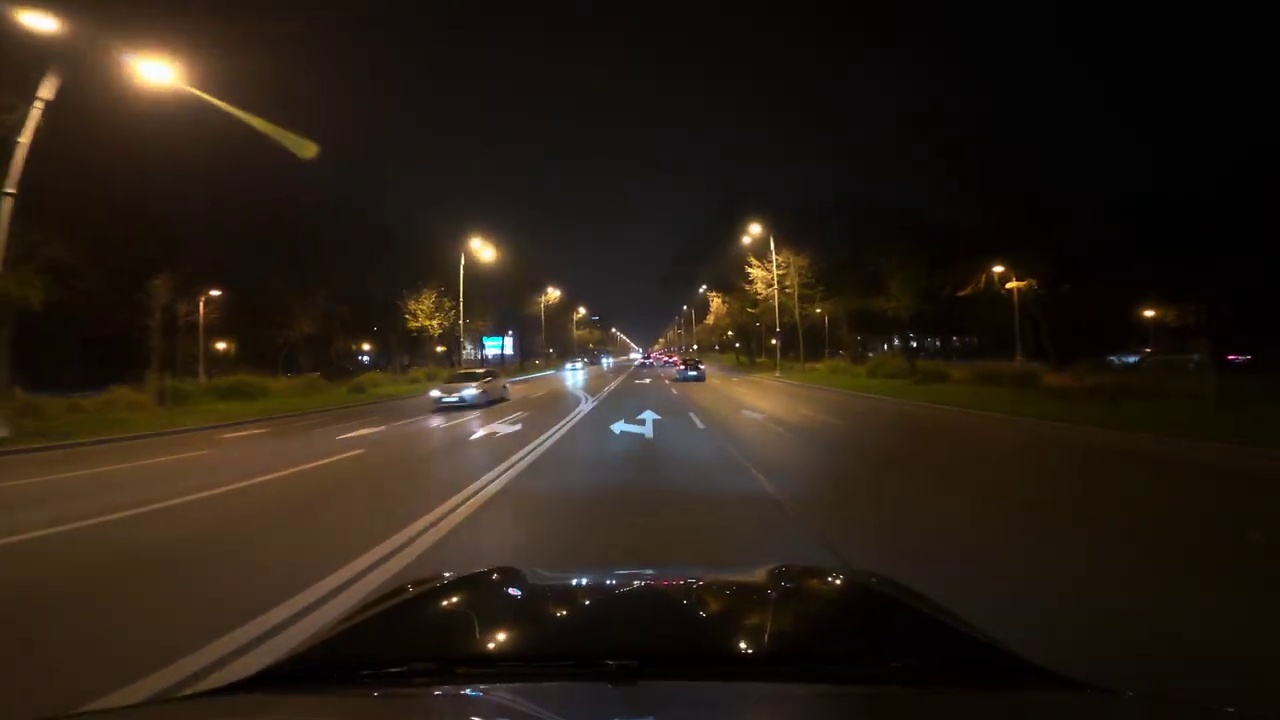acesa: (124, 52, 185, 97), (13, 6, 66, 40), (465, 235, 500, 266), (739, 219, 768, 247), (539, 284, 563, 307)
